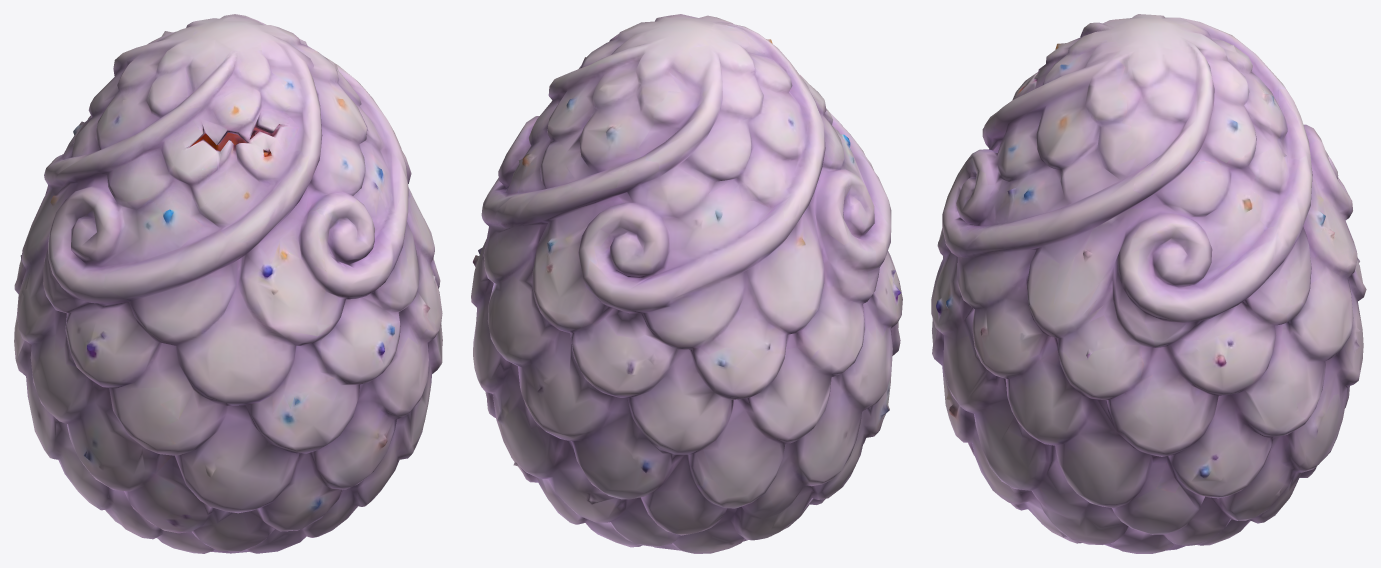
File: yumurta.glb
3 renders of one model, left to right at view 1: azimuth 30°, elevation 25°; view 2: azimuth 150°, elevation 25°; view 3: azimuth 270°, elevation 25°, orthographic.
Parts seen in each view (by area): view 1: tripo_node_d660a310-b0e3-47d2-a504-dbb2c22c211c; view 2: tripo_node_d660a310-b0e3-47d2-a504-dbb2c22c211c; view 3: tripo_node_d660a310-b0e3-47d2-a504-dbb2c22c211c.
Boxes of the visible parts, bbox=[...] form: tripo_node_d660a310-b0e3-47d2-a504-dbb2c22c211c: bbox=[14, 14, 442, 553]; tripo_node_d660a310-b0e3-47d2-a504-dbb2c22c211c: bbox=[471, 14, 902, 553]; tripo_node_d660a310-b0e3-47d2-a504-dbb2c22c211c: bbox=[931, 14, 1366, 553].
Bounding box in the file's own units: 0.7723 × 0.9807 × 0.7764.
Materials: 1 (1 with a texture image).
